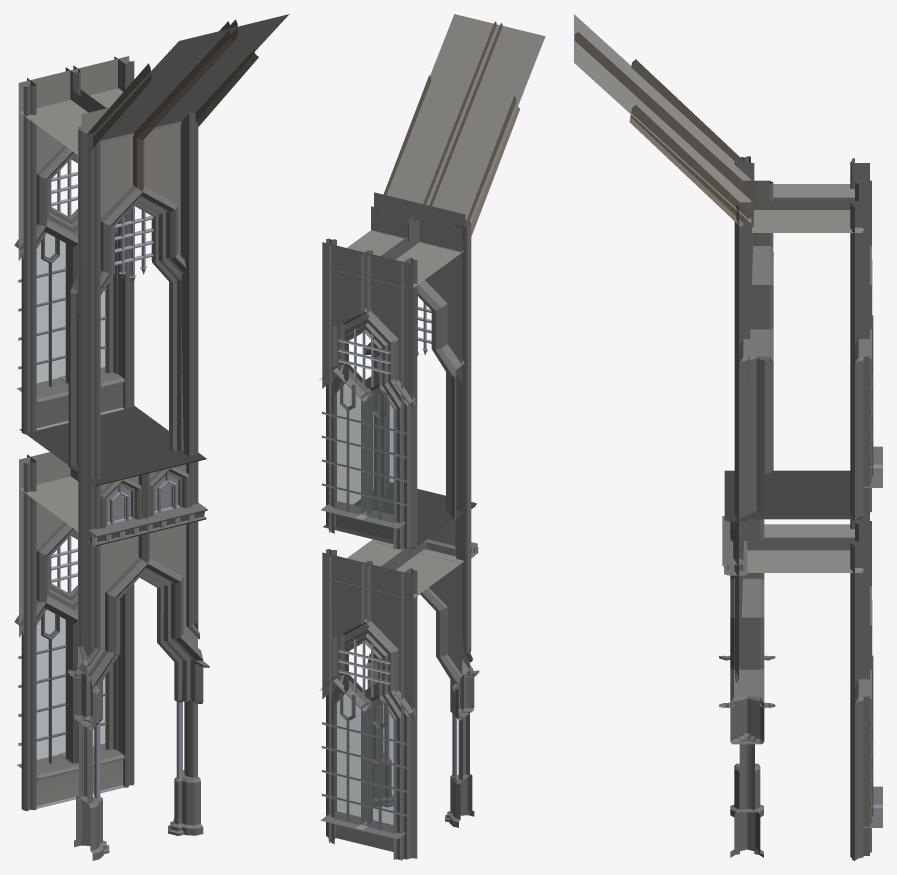
Rendered from Corner_Extension_Tile.fbx.
The picture shows the model from 3 angles, left to right: view 1: azimuth 30°, elevation 25°; view 2: azimuth 150°, elevation 25°; view 3: azimuth 270°, elevation 25°; orthographic projection. The views are drawn at different scales.
Parts seen in each view (by area): view 1: polySurface505, polySurface364, polySurface409, polySurface338, polySurface360, pCube405, polySurface343, polySurface341, pCube426, pCube456, pCube484, pCube440 (+24 smaller); view 2: pCube405, pCube440, pCube530, polySurface404, polySurface336, polySurface505, pCube426, polySurface341, polySurface371, polySurface470, polySurface471, polySurface473 (+22 smaller); view 3: polySurface505, pCube405, polySurface338, polySurface409, polySurface364, pCube484, polySurface371, polySurface343, pCube359, pCube428, group30_polySurface314, polySurface404 (+8 smaller).
Boxes of the visible parts, x1,y1,x2,y2 form: polySurface505: [67, 473, 209, 860]; polySurface364: [180, 112, 199, 639]; polySurface409: [23, 454, 134, 810]; polySurface338: [23, 56, 134, 434]; polySurface360: [87, 126, 100, 666]; pCube405: [88, 14, 289, 140]; polySurface343: [100, 185, 186, 451]; polySurface341: [78, 128, 87, 665]; pCube426: [78, 107, 180, 314]; pCube456: [78, 464, 197, 682]; pCube484: [19, 406, 183, 472]; pCube440: [18, 56, 129, 261]; pCube405: [386, 14, 545, 241]; pCube440: [322, 242, 413, 410]; pCube530: [322, 552, 413, 721]; polySurface404: [320, 618, 417, 859]; polySurface336: [319, 308, 417, 549]; polySurface505: [362, 542, 479, 827]; pCube426: [371, 192, 465, 382]; polySurface341: [452, 223, 472, 662]; polySurface371: [365, 280, 461, 520]; polySurface470: [364, 700, 394, 833]; polySurface471: [333, 691, 363, 825]; polySurface473: [333, 381, 363, 514]; polySurface505: [719, 519, 775, 857]; pCube405: [574, 14, 751, 222]; polySurface338: [850, 158, 869, 520]; polySurface409: [850, 515, 869, 860]; polySurface364: [734, 202, 754, 687]; pCube484: [747, 470, 862, 519]; polySurface371: [756, 246, 773, 513]; polySurface343: [739, 246, 756, 520]; pCube359: [747, 524, 862, 572]; pCube428: [752, 184, 862, 232]; group30_polySurface314: [629, 105, 752, 227]; polySurface404: [855, 586, 871, 860].
Bounding box in the file's own units: 4.15 × 30.7 × 10.7.
